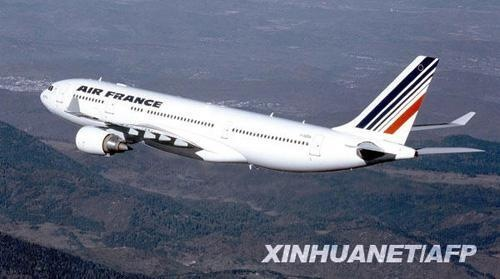airplane: (37, 56, 476, 172)
